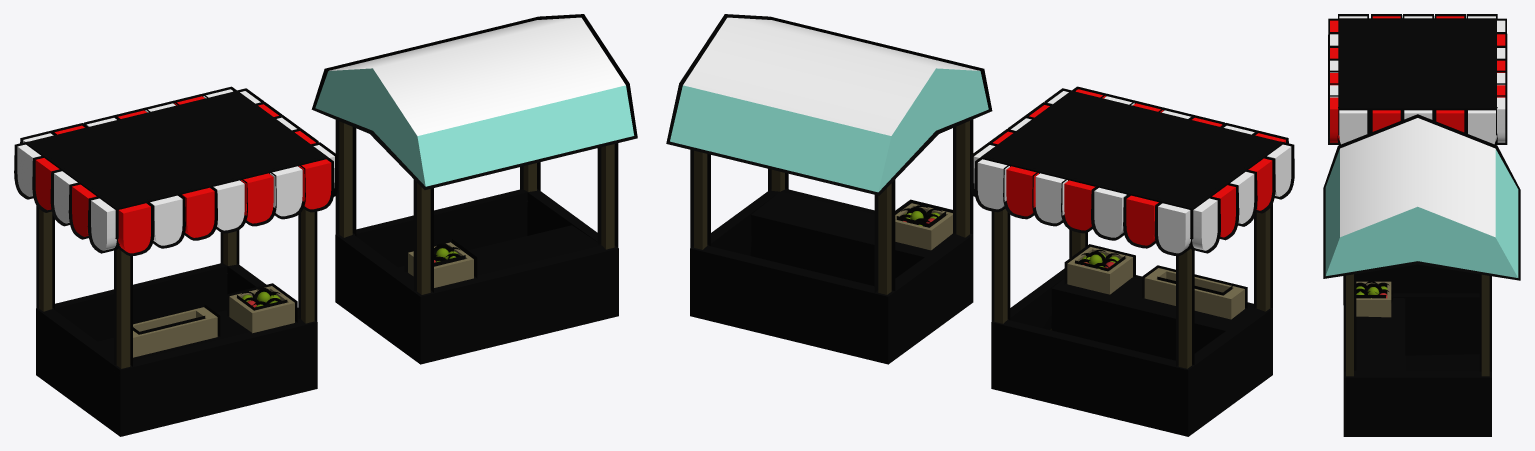
The model's file is stalls.fbx.
The picture shows the model from 3 angles, left to right: view 1: azimuth 30°, elevation 25°; view 2: azimuth 150°, elevation 25°; view 3: azimuth 270°, elevation 25°; orthographic projection. The views are drawn at different scales.
Visible parts, largest first — view 1: Stand 2, Stand 1; view 2: Stand 2, Stand 1; view 3: Stand 2, Stand 1.
Boxes of the visible parts, x1=… form: Stand 2: x1=311, y1=14, x2=637, y2=364; Stand 1: x1=14, y1=86, x2=338, y2=436; Stand 2: x1=666, y1=14, x2=992, y2=364; Stand 1: x1=970, y1=86, x2=1294, y2=436; Stand 2: x1=1323, y1=114, x2=1520, y2=436; Stand 1: x1=1328, y1=14, x2=1507, y2=293.
Size of the model in its own units: 72.32 by 35.47 by 26.99.
